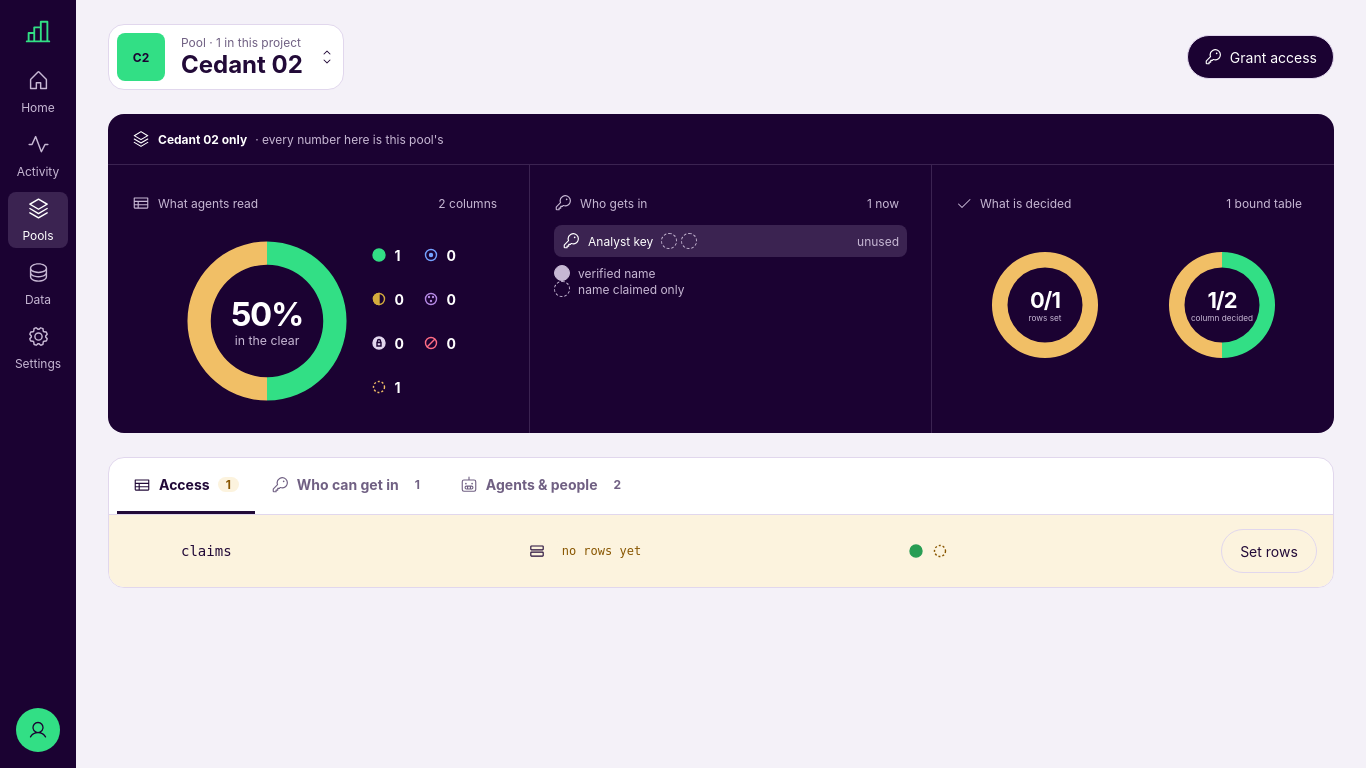
Test: column counts and treatment marks open only their real matching members
Step 1. Click the button "2 columns" → (468,203), box [430,181,505,225]
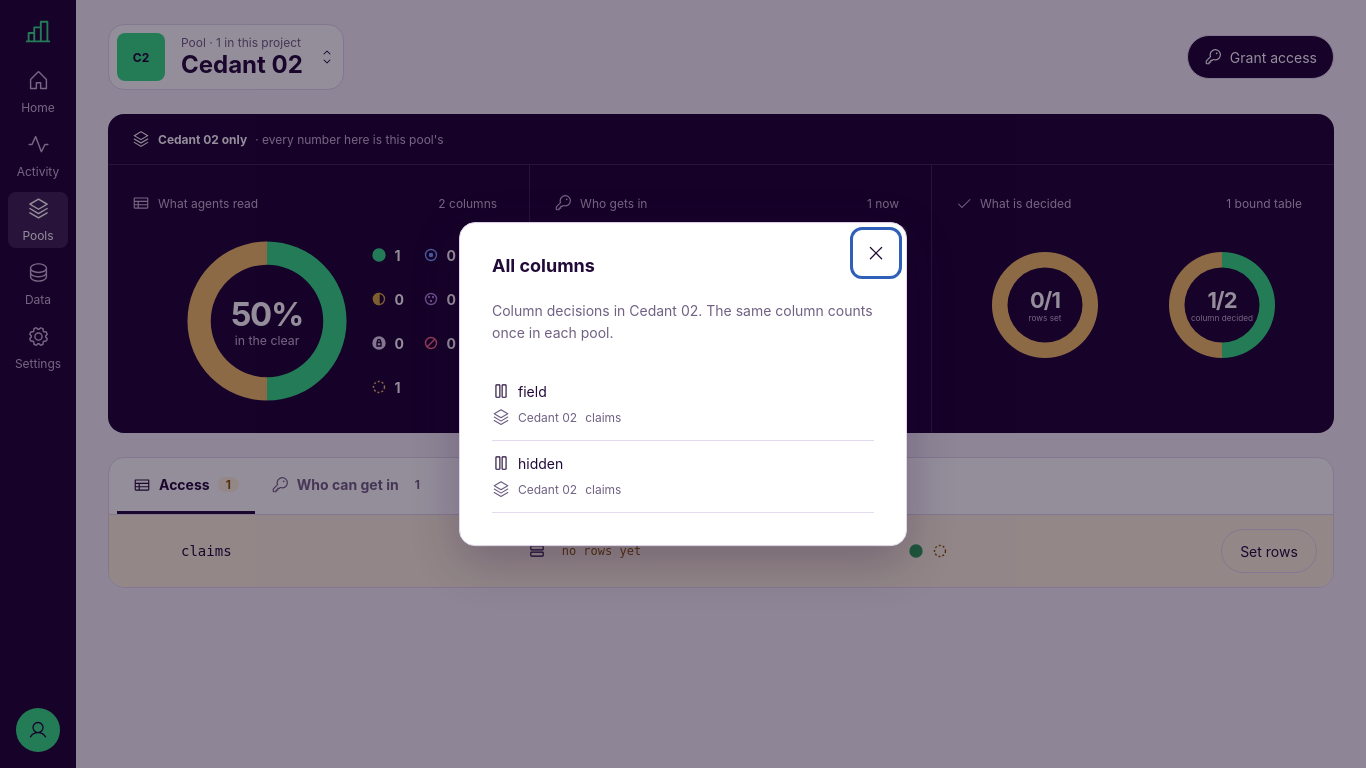
Expected: the heading "All columns" is shown, [492,255,595,276]
